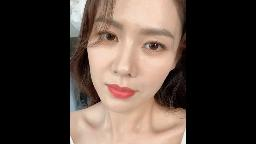face: (88, 0, 176, 108)
